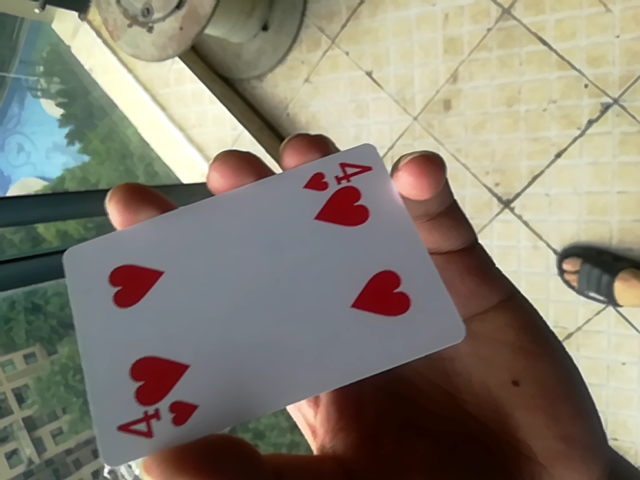hx 4: (47, 137, 468, 473)
